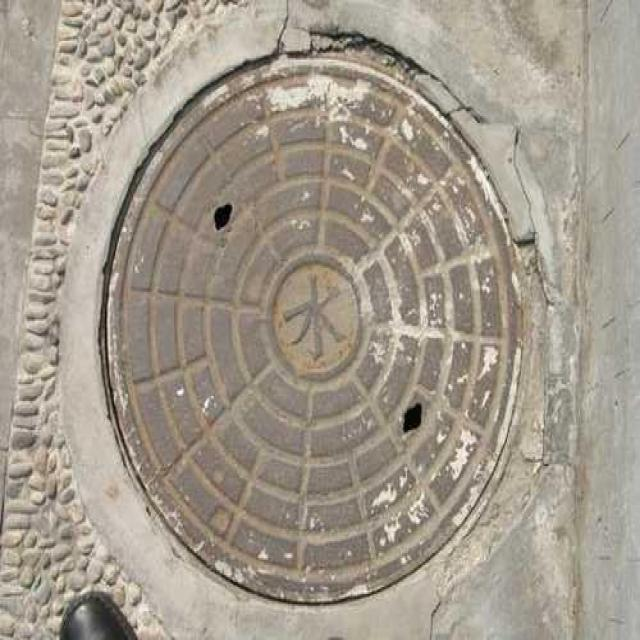manhole: (105, 37, 520, 602)
